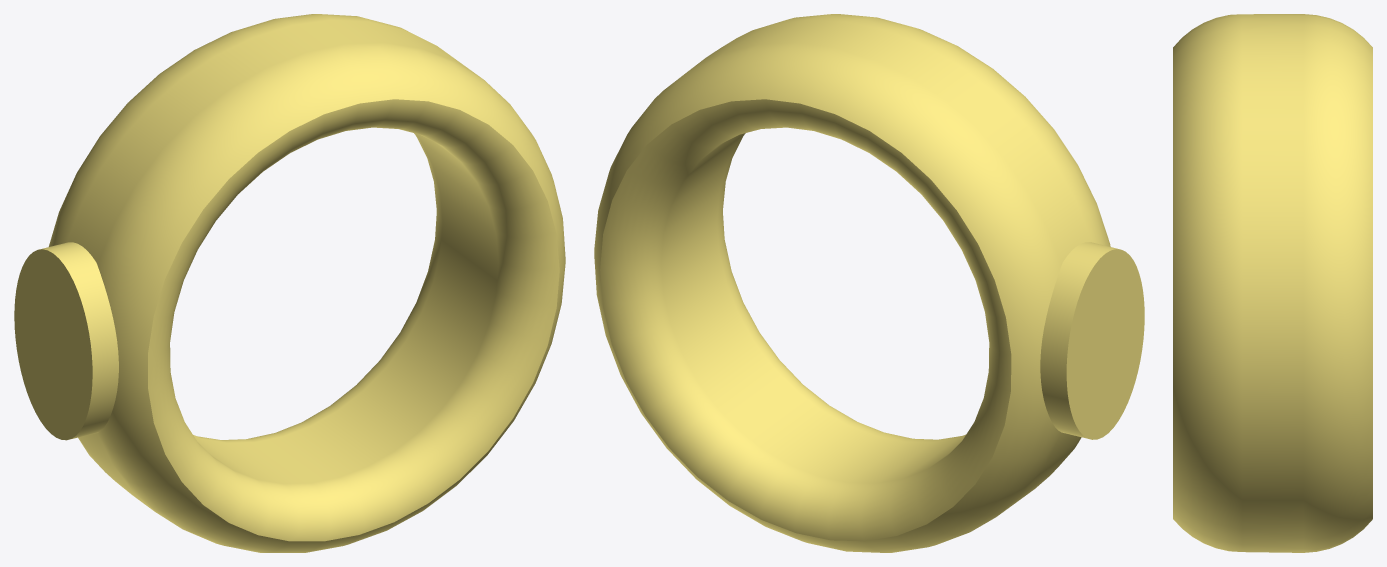
The model's file is main part (1).glb.
The picture shows the model from 3 angles, left to right: view 1: azimuth 30°, elevation 25°; view 2: azimuth 150°, elevation 25°; view 3: azimuth 270°, elevation 25°; orthographic projection.
Parts seen in each view (by area): view 1: main part.ipt; view 2: main part.ipt; view 3: main part.ipt.
Part boxes in pixels (bbox=[...]): main part.ipt: bbox=[14, 14, 565, 552]; main part.ipt: bbox=[594, 14, 1144, 552]; main part.ipt: bbox=[1173, 14, 1372, 552].
Bounding box in the file's own units: 0.025 × 0.0243 × 0.009.
